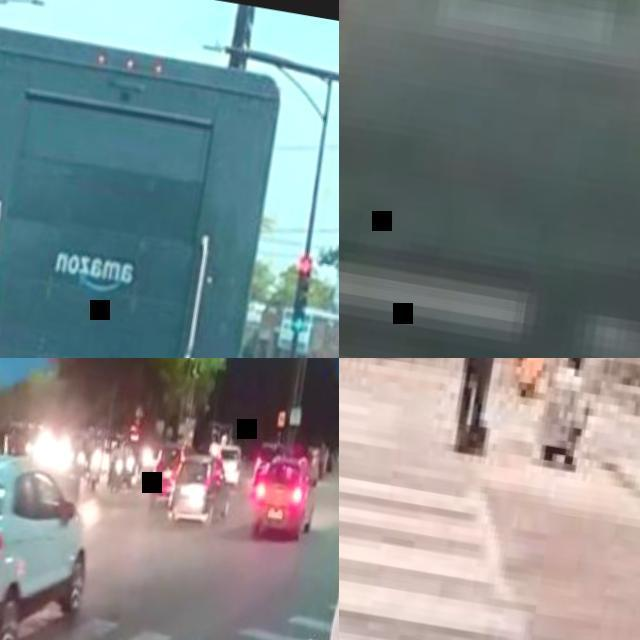car: (0, 423, 89, 639)
